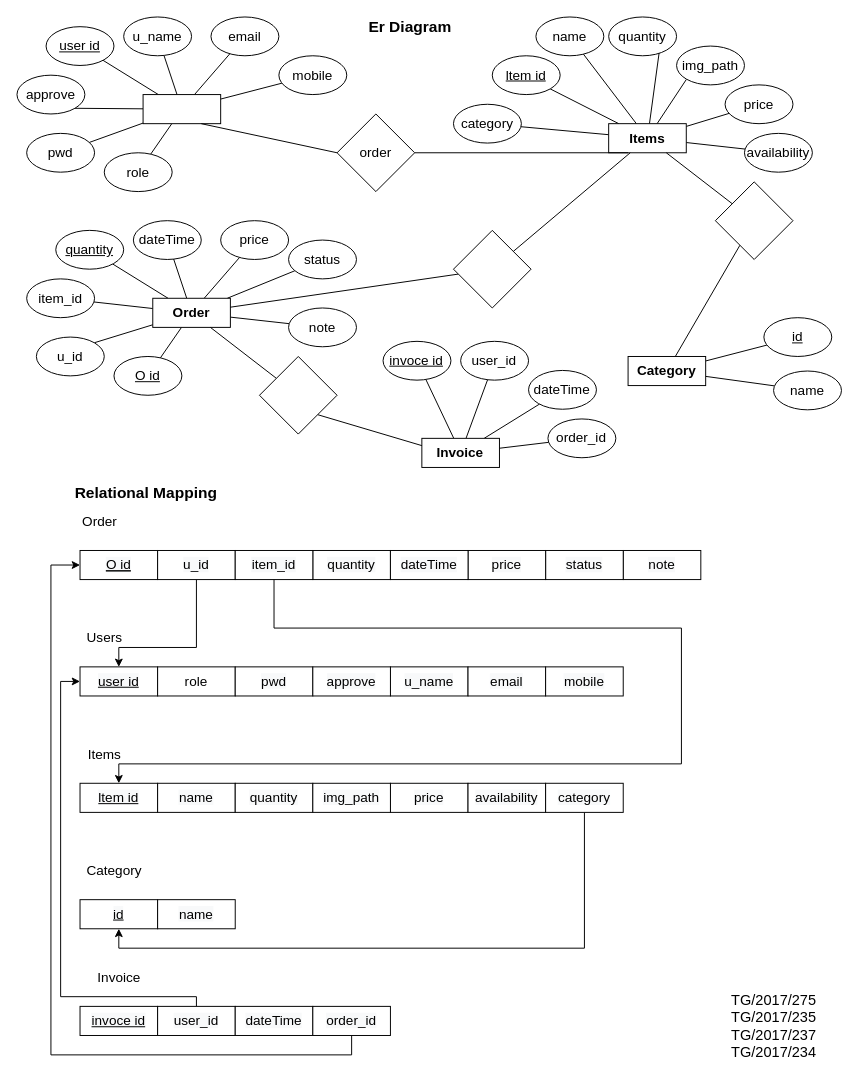
Some shapes in this 858 by 1082 pixel diagram are drawn without their labels. The centre of each missing label's shape, as x and y in pixels:
belongs to: point (753, 220)
contains: point (492, 268)
has: point (298, 395)
User: point (181, 109)
